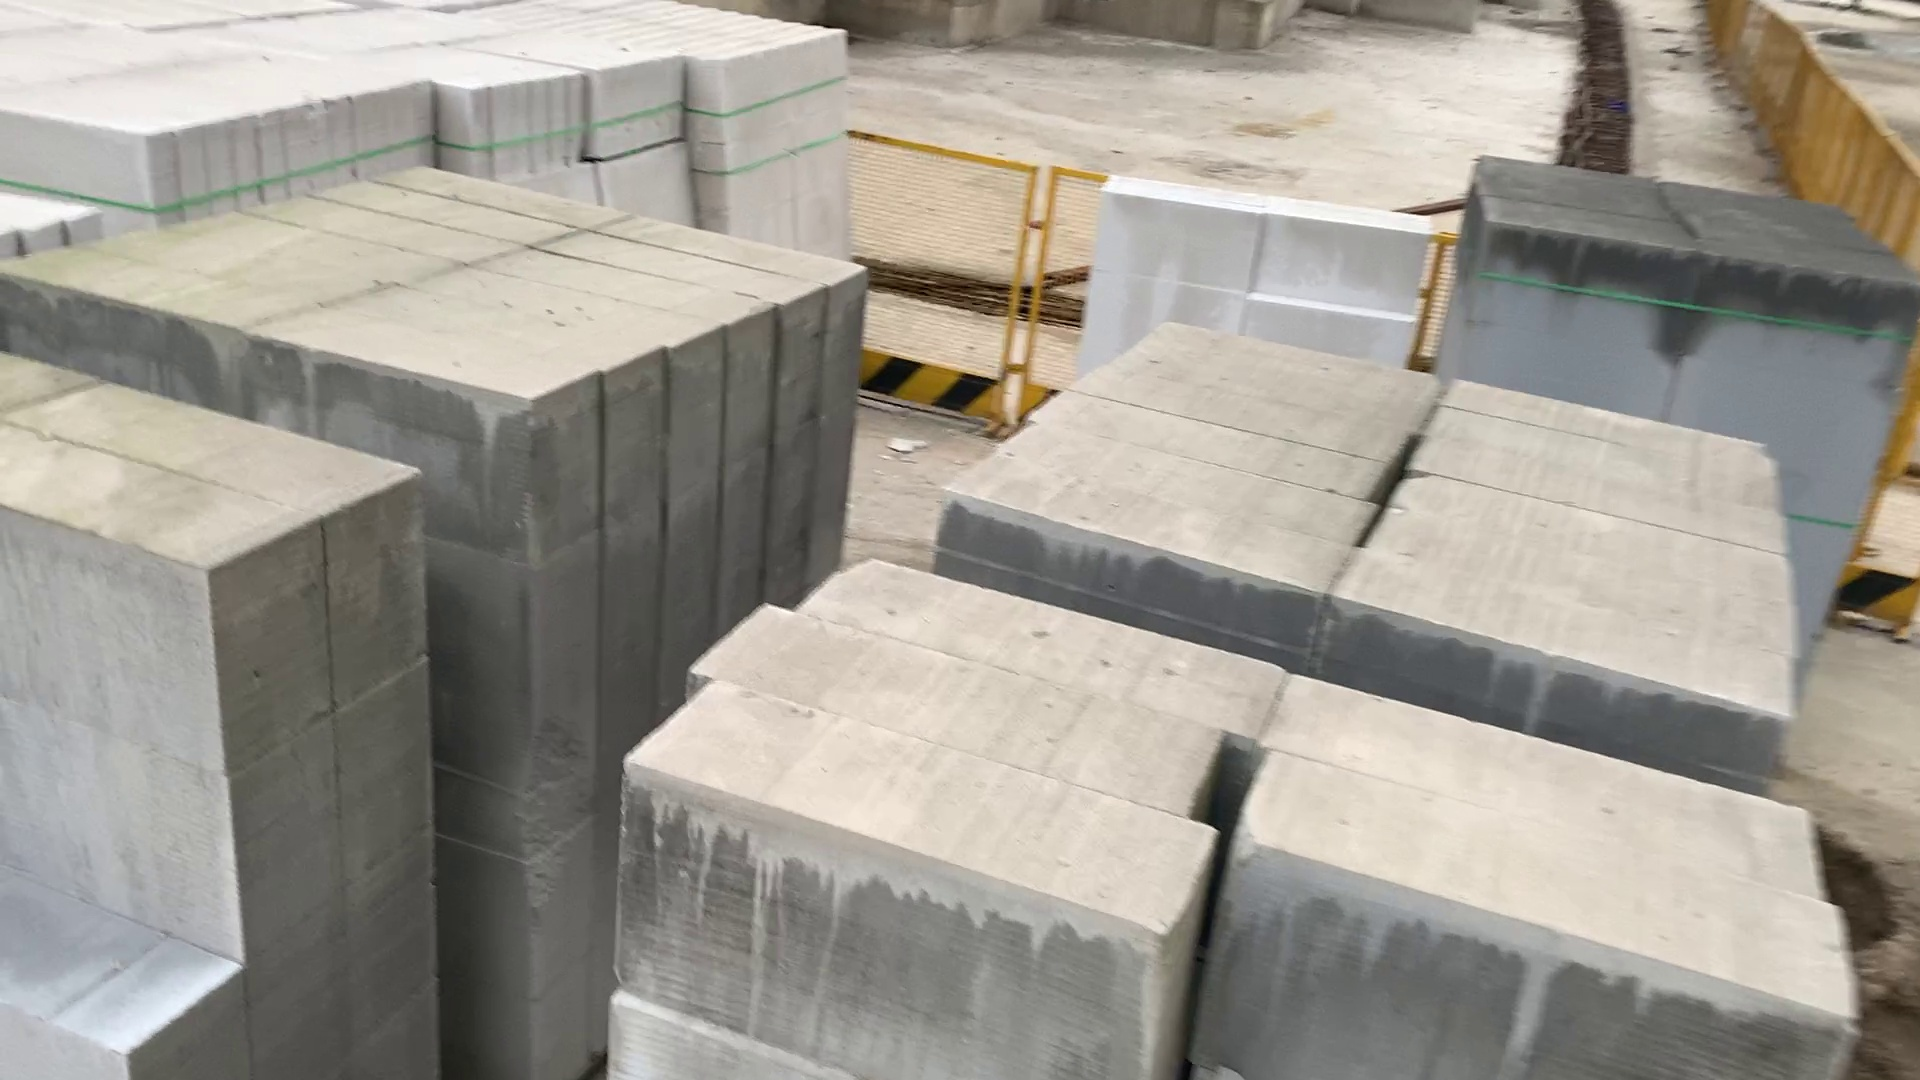brickwork: (597, 576, 1855, 1080), (967, 309, 1807, 727), (3, 368, 452, 1080), (15, 167, 876, 410), (1460, 158, 1920, 404), (7, 22, 433, 189), (439, 15, 856, 137)
